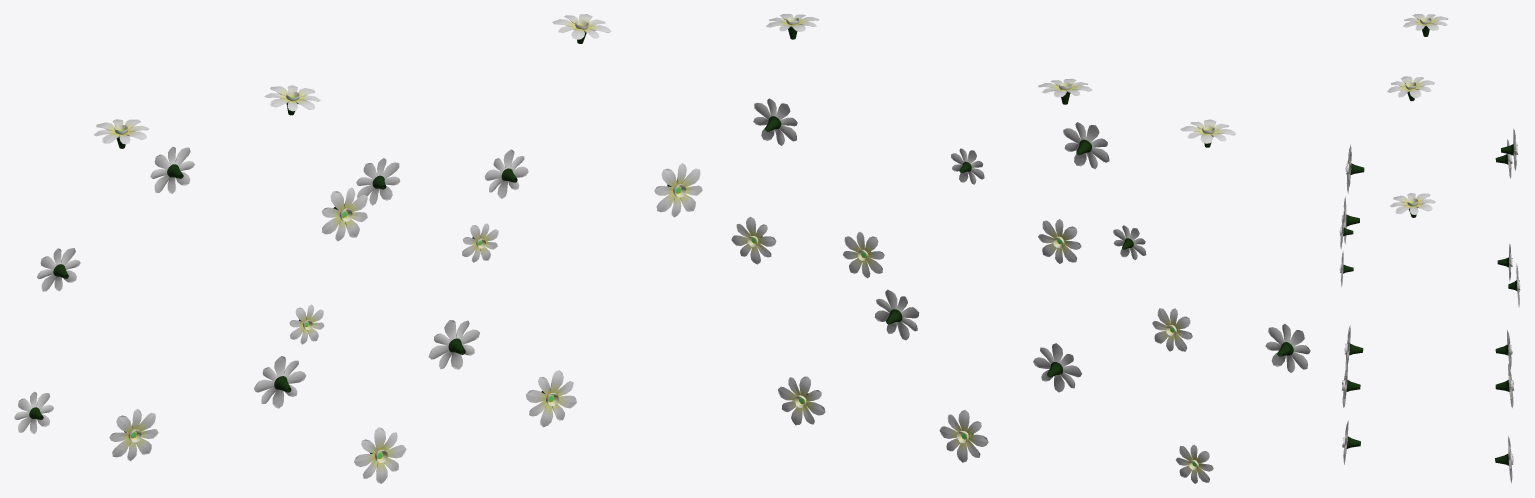
The model's file is hedgemaze_straight_closed_flowers2.fbx.
The picture shows the model from 3 angles, left to right: view 1: azimuth 30°, elevation 25°; view 2: azimuth 150°, elevation 25°; view 3: azimuth 270°, elevation 25°; orthographic projection. The views are drawn at different scales.
Visible parts, largest first — view 1: pCube25; view 2: pCube25; view 3: pCube25.
Part boxes in pixels (left/top/right/bottom): pCube25: left=14, top=14, right=702, bottom=483; pCube25: left=731, top=14, right=1310, bottom=483; pCube25: left=1339, top=14, right=1520, bottom=482.
Size of the model in its own units: 4.56 by 2.75 by 1.46.
